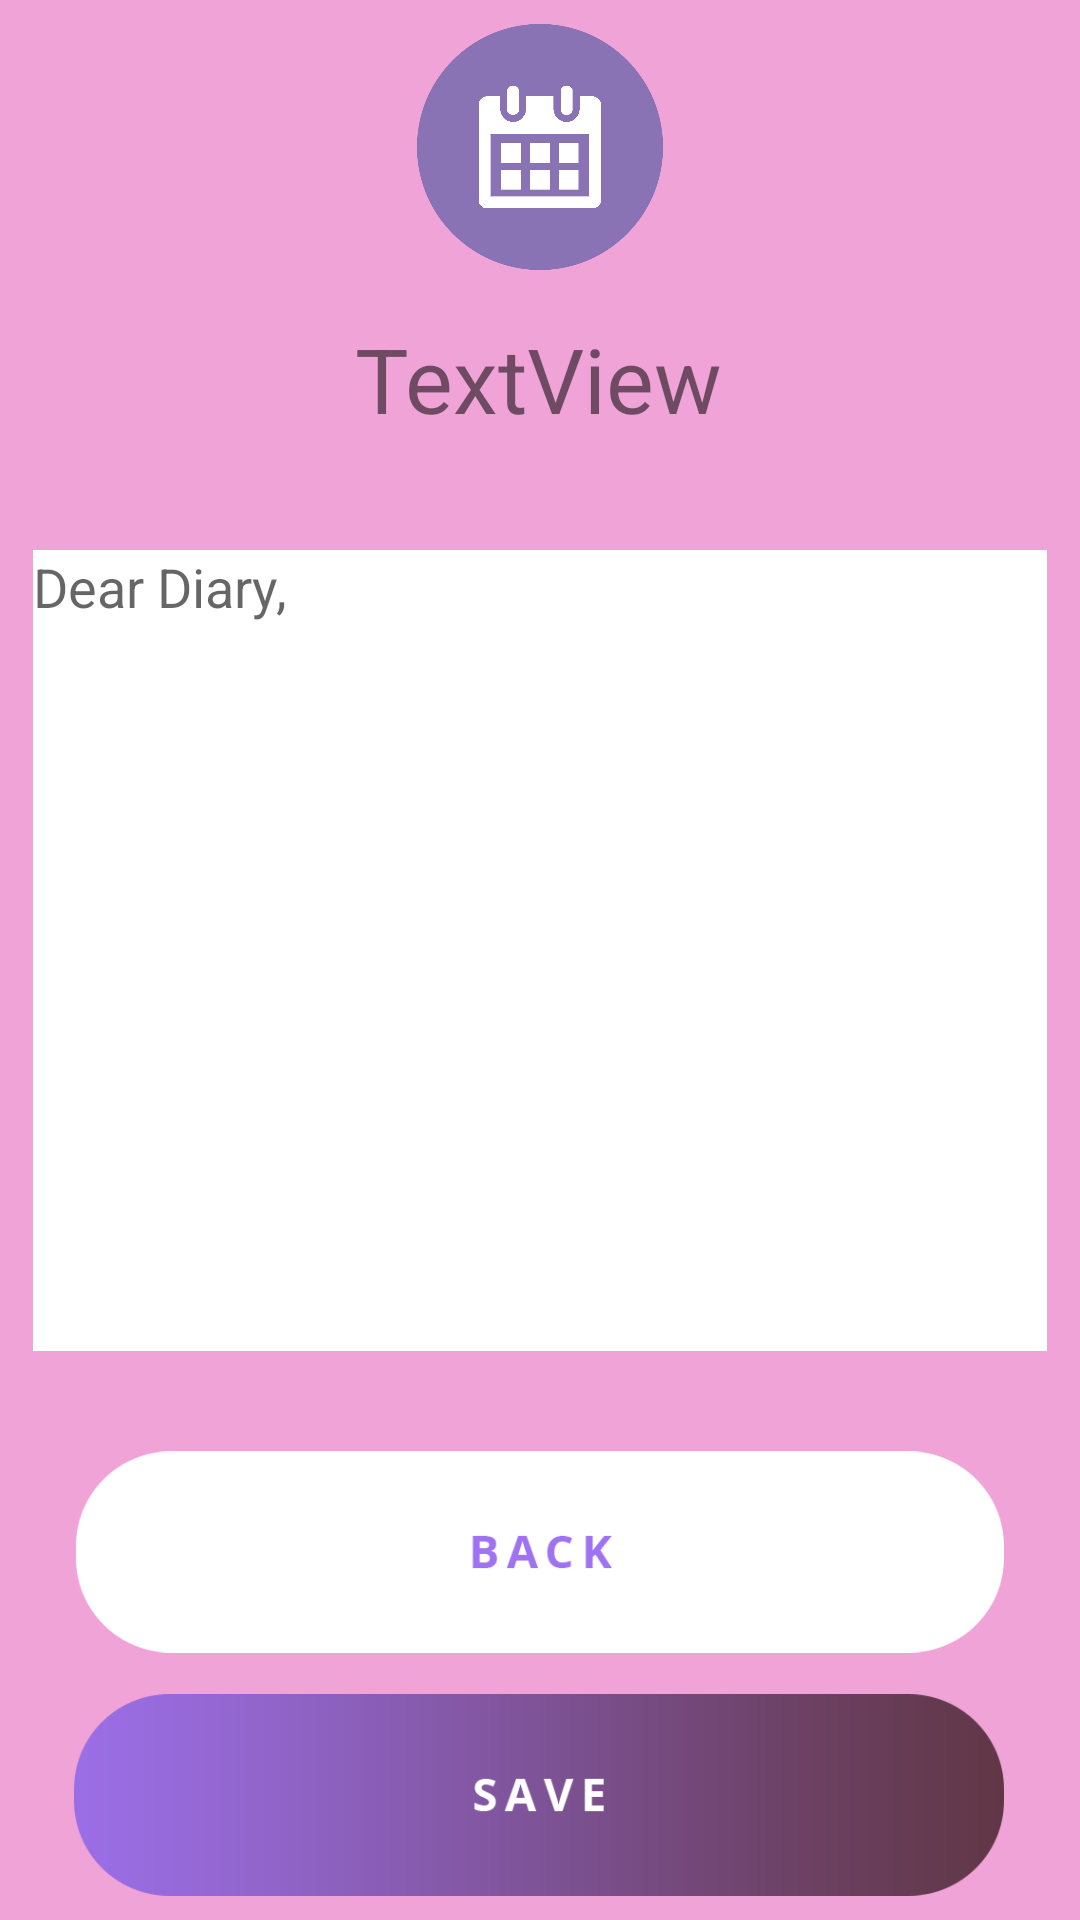

Screen size 1080px×1920px. Icon name, then its box in pixels as Rect(x1, y1, x2, y2):
calenderbtn: Rect(417, 24, 663, 270)
